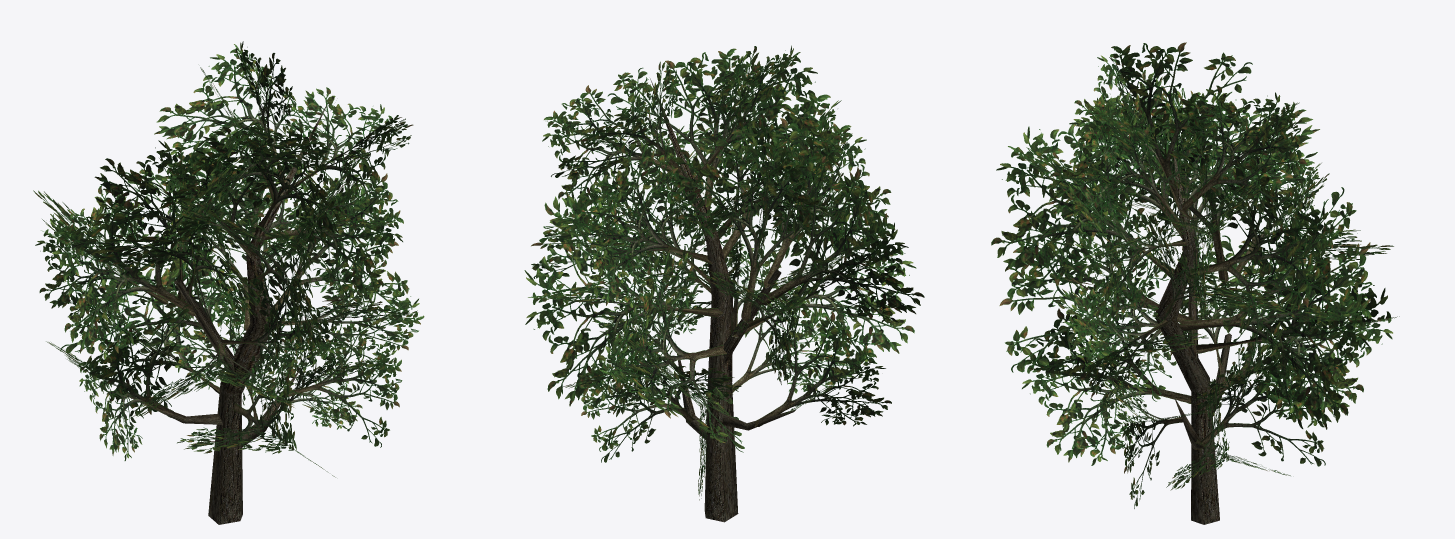
The model's file is tree_d.FBX.
The picture shows the model from 3 angles, left to right: view 1: azimuth 30°, elevation 25°; view 2: azimuth 150°, elevation 25°; view 3: azimuth 270°, elevation 25°; orthographic projection. The views are drawn at different scales.
Visible parts, largest first — view 1: tree_d; view 2: tree_d; view 3: tree_d.
Boxes of the visible parts, <box> form: tree_d: <box>33,41,424,524</box>; tree_d: <box>524,45,924,522</box>; tree_d: <box>991,42,1399,524</box>.
Size of the model in its own units: 17.08 by 18.82 by 16.74.
2 materials, 2 textured.
